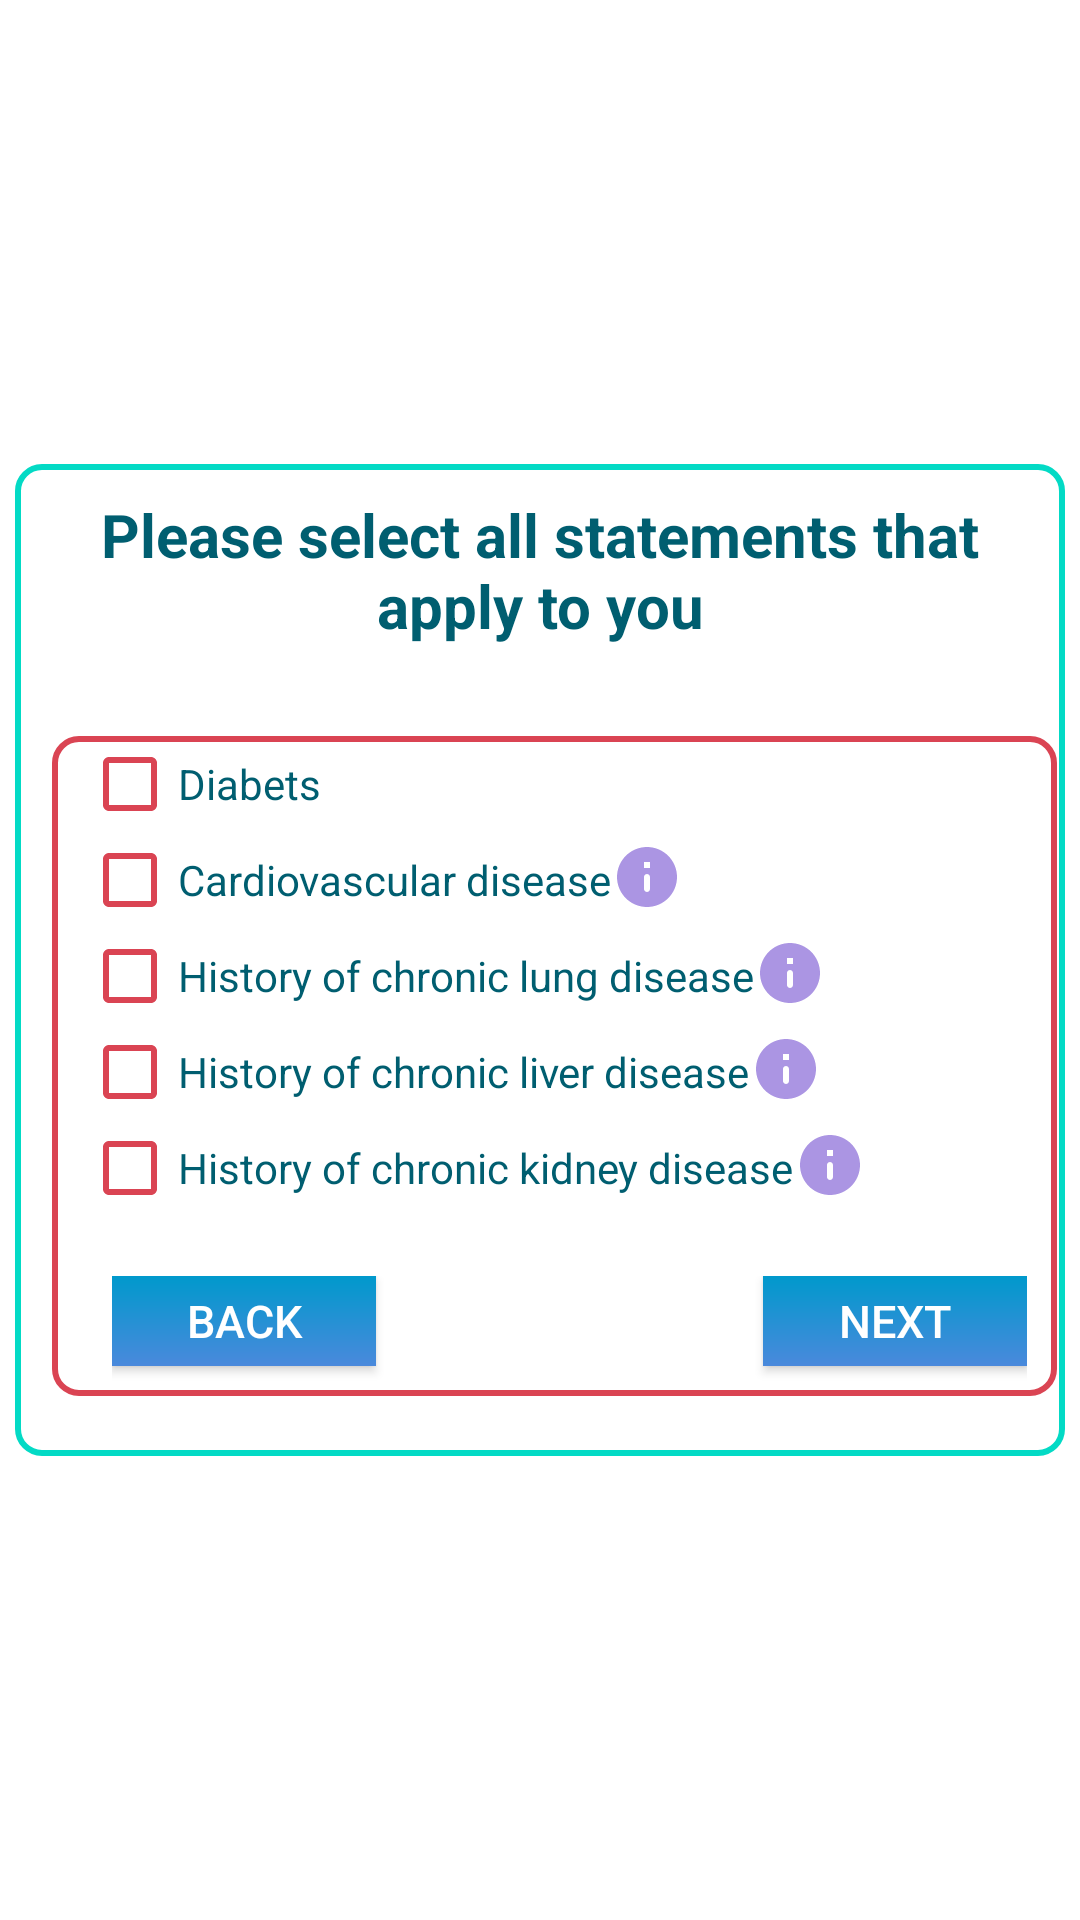

Icon bounding boxes for this 1080*1920 phone screenshot, format (x1, y1, x2, y2):
moreinfo: (617, 847, 677, 907), (760, 943, 820, 1003), (756, 1039, 816, 1099), (800, 1135, 860, 1195)
